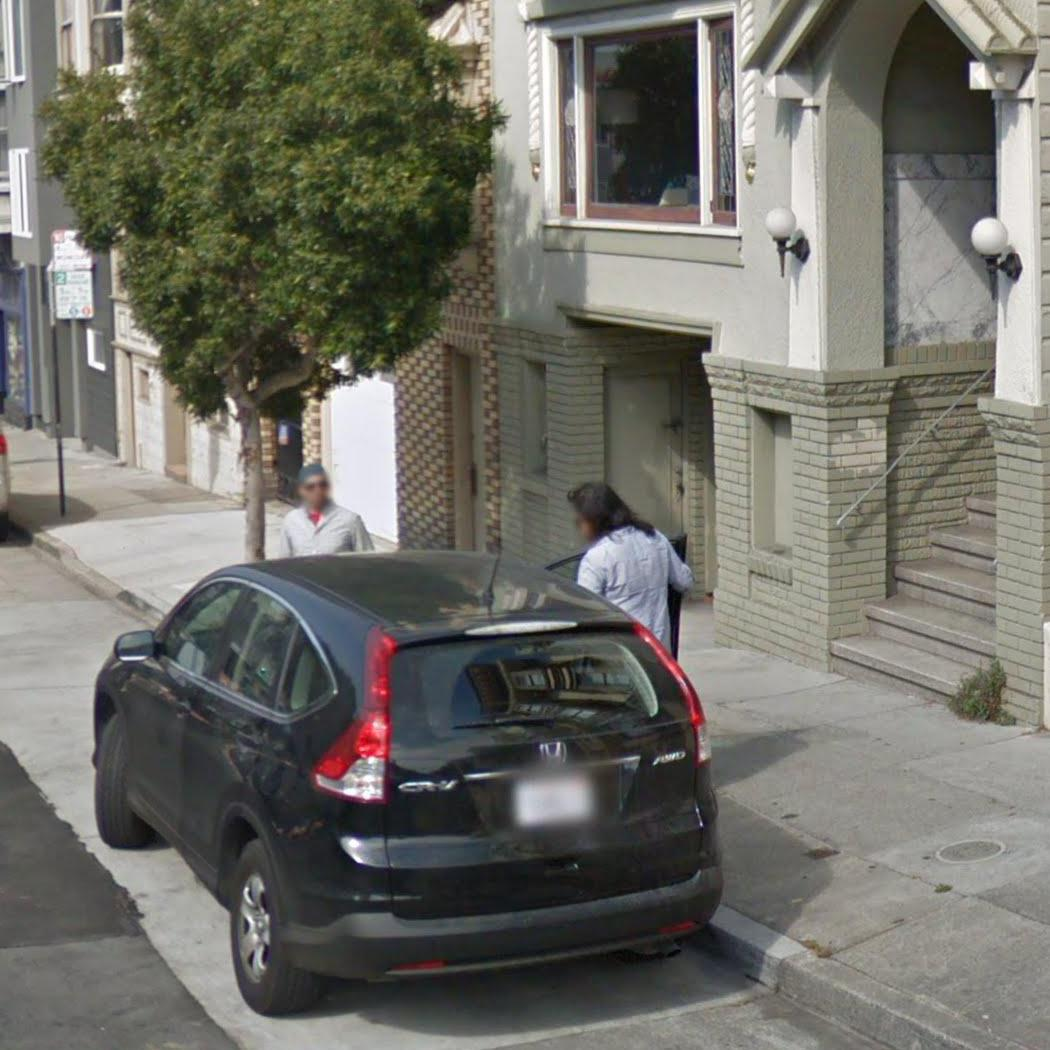2 Hour Parking: (50, 271, 96, 323)
No Parking: (50, 227, 95, 272)
